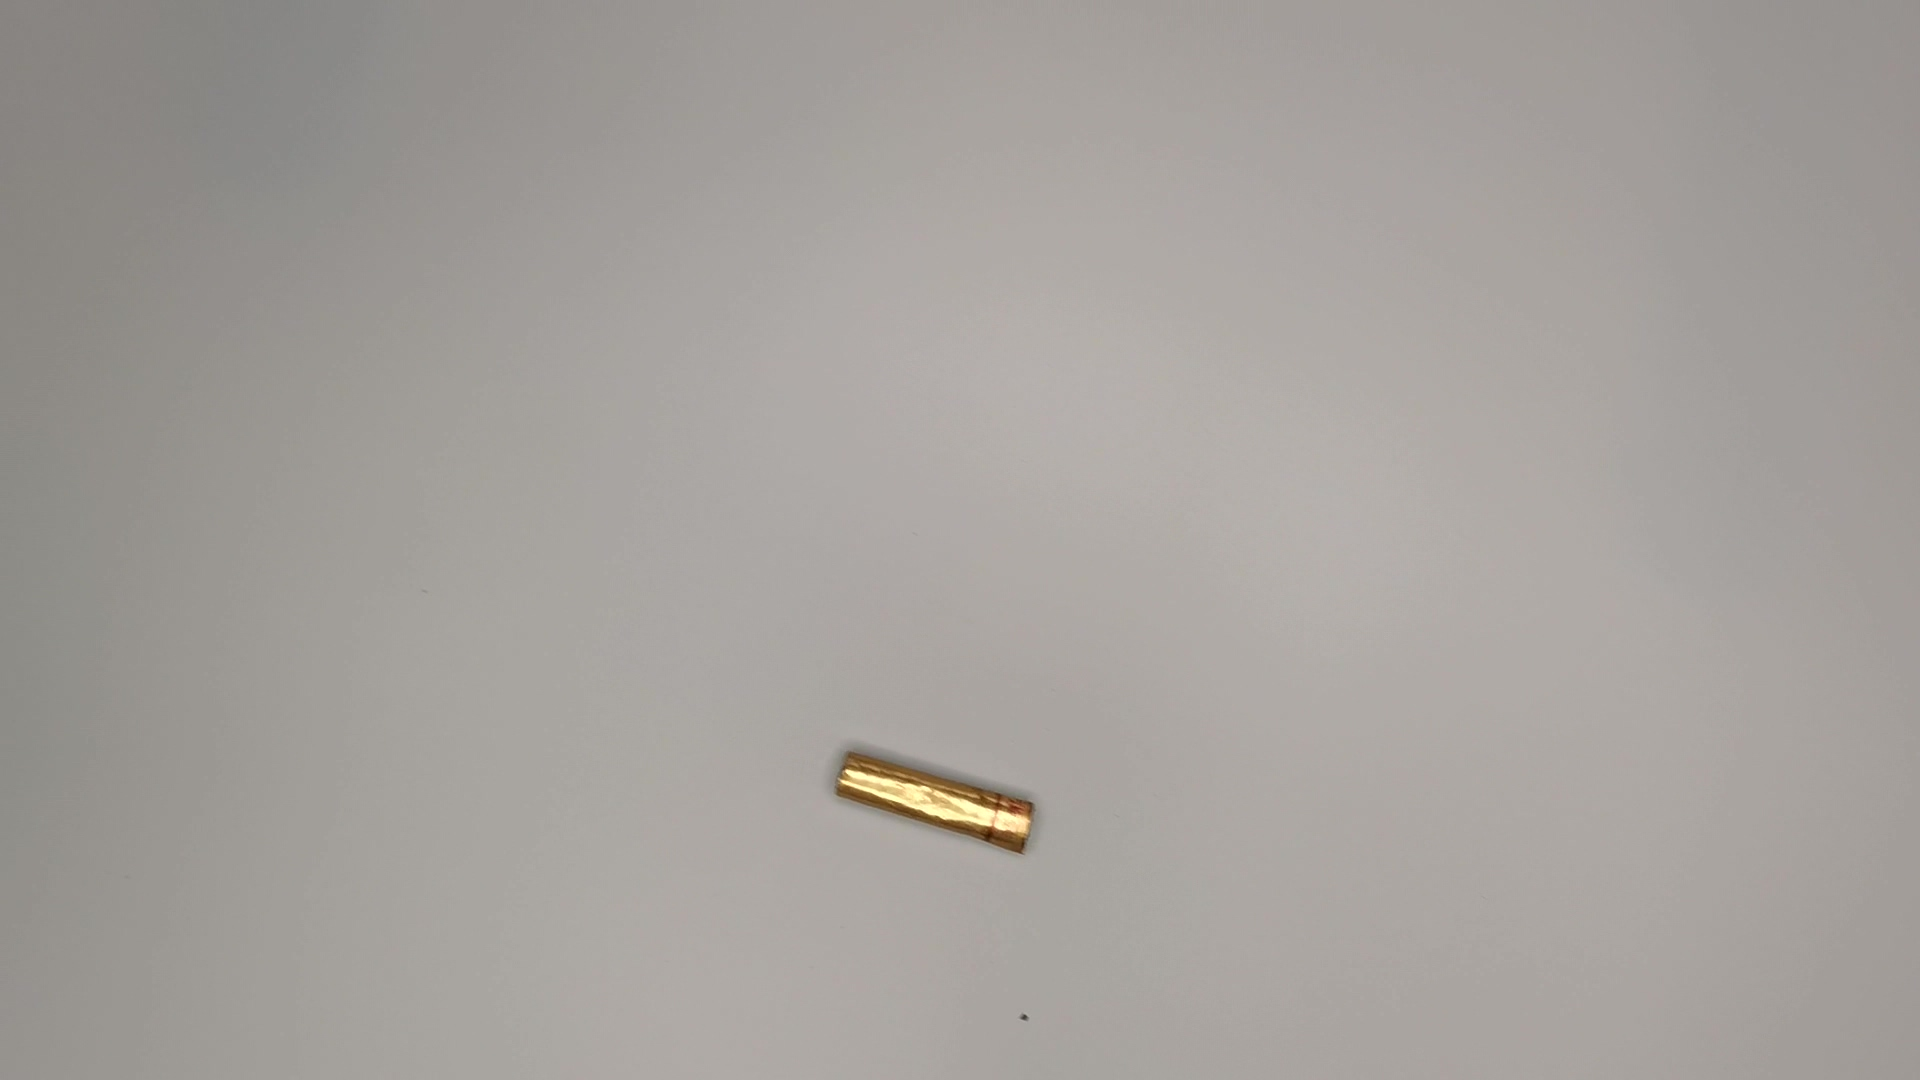cigarette: (833, 742, 1058, 858)
